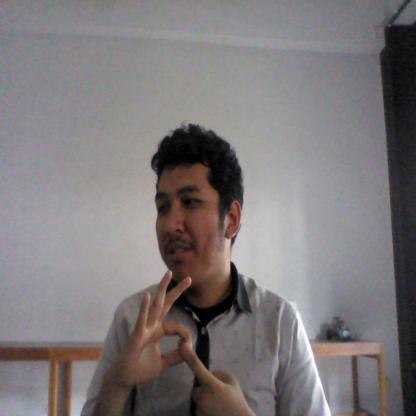Q: (124, 267, 235, 416)
